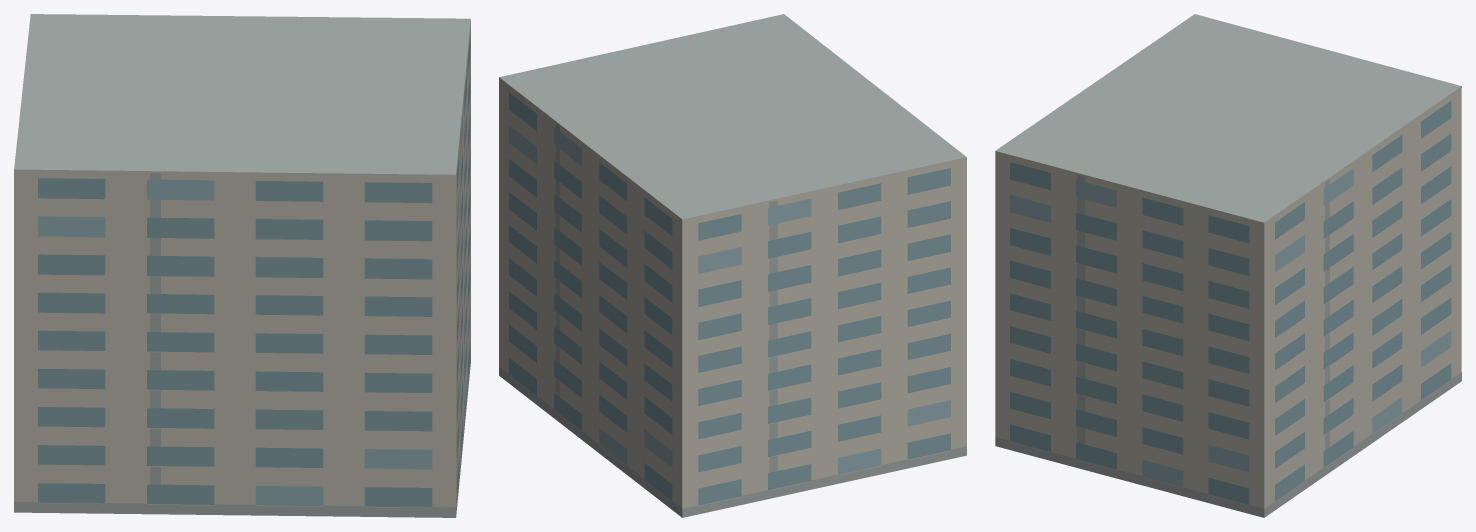
File: survey-upis-32990675.glb
3 views of the same model, side by side, from view 1: azimuth 30°, elevation 25°; view 2: azimuth 150°, elevation 25°; view 3: azimuth 270°, elevation 25° (orthographic). The views are drawn at different scales.
Visible parts, largest first — view 1: survey-upis-32990675.tmp; view 2: survey-upis-32990675.tmp; view 3: survey-upis-32990675.tmp.
Boxes of the visible parts, box(x1,y1,x2,y2) form: survey-upis-32990675.tmp: box(14, 14, 470, 517); survey-upis-32990675.tmp: box(499, 14, 966, 517); survey-upis-32990675.tmp: box(995, 14, 1461, 517).
Size of the model in its own units: 63.25 by 41.7 by 59.75.
